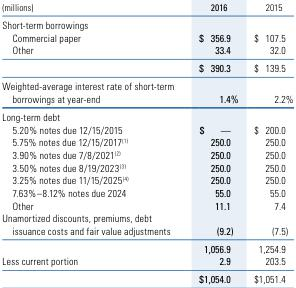table: (1, 0, 292, 284)
table column: (1, 0, 185, 284), (185, 0, 245, 284), (245, 0, 292, 284)
table column header: (1, 0, 292, 15)
table projected row header: (1, 15, 292, 30), (1, 107, 292, 122)
table row: (1, 76, 292, 107), (1, 211, 292, 239), (1, 58, 292, 76), (1, 0, 292, 15), (1, 15, 292, 30), (1, 43, 292, 58), (1, 107, 292, 122), (1, 239, 292, 254), (1, 254, 292, 269), (1, 269, 292, 284), (1, 30, 292, 43), (1, 122, 292, 135), (1, 147, 292, 160), (1, 160, 292, 173), (1, 185, 292, 198), (1, 198, 292, 211), (1, 135, 292, 147), (1, 173, 292, 185)
